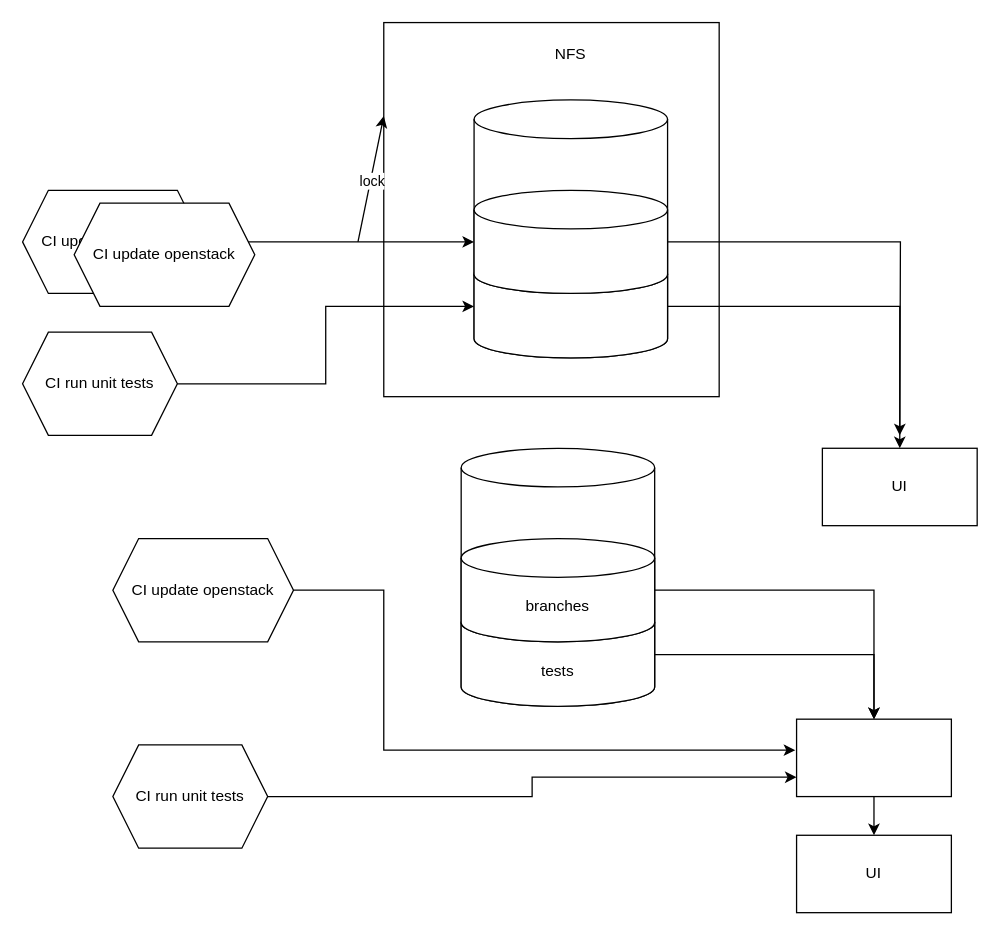
The diagram is 1000 pixels wide and 935 high, and some of its shapes have lost their labels. Here are the shapes that lost their labels. From the top down, the centre of each, then its label:
(570,241): branches.json
(570,305): tests.json
(873,757): backend
